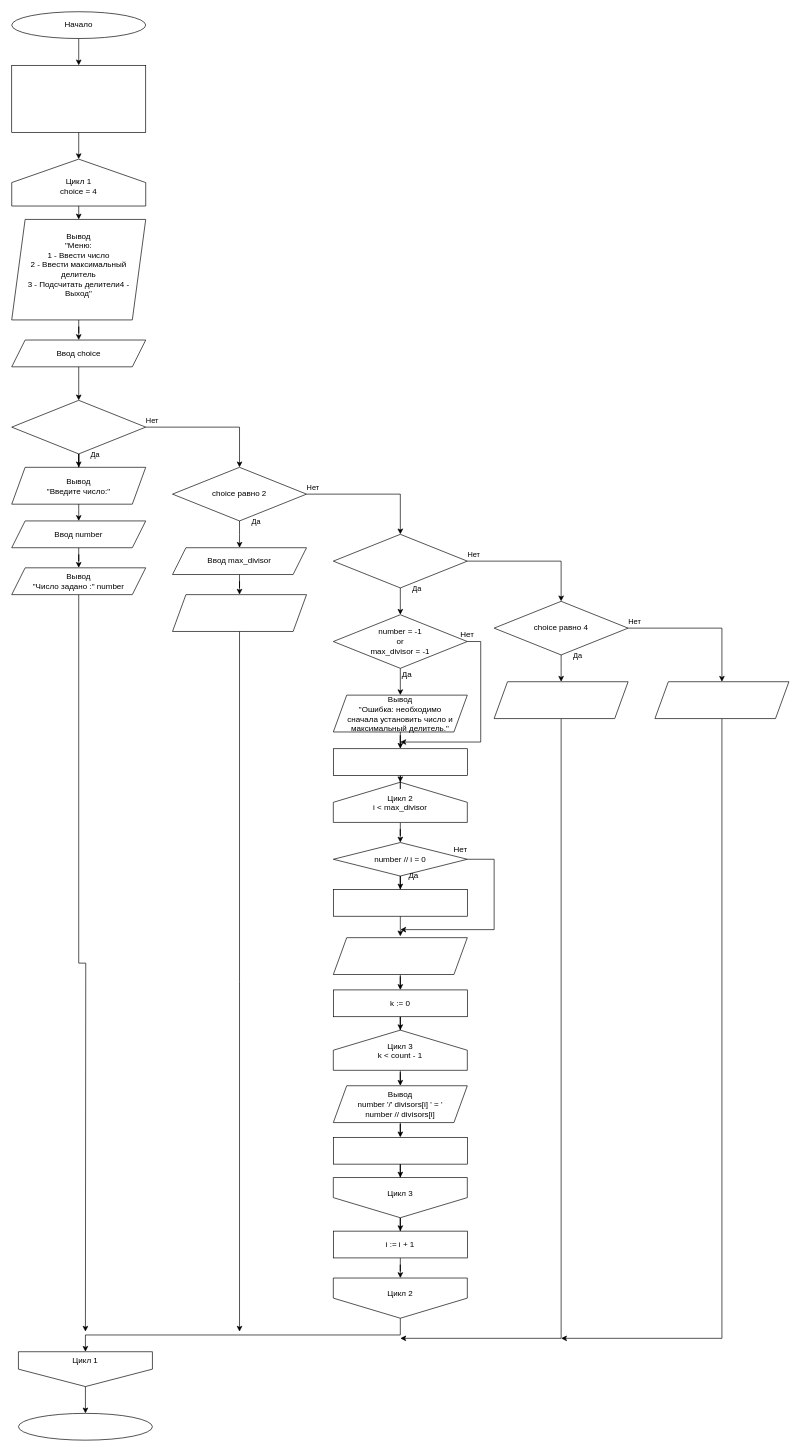
This 801x1452 diagram has some shape labels left out. The box of each missing label's shape, as (x1, y1, x2, y2) in pixels:
choice = 1: (11, 400, 146, 454)
choice равно 3: (333, 534, 467, 588)
count := count + 1 divisors[count - 1] := i: (333, 889, 467, 916)
i := 1 count := 0: (333, 748, 467, 776)
k := k + 1: (333, 1137, 467, 1164)
number := -1 max_divisor := -1 choice := 0 i := 0 count := 0: (11, 65, 146, 132)
Вывод "Выход из программы": (493, 681, 628, 719)
Вывод "Максимальный делитель задан:" max_divisor: (172, 594, 307, 631)
Вывод "Ошибка: выберите корректный пункт меню": (654, 681, 789, 719)
Вывод 'Количество делителей: ' count 'Список делителей: ': (333, 937, 467, 975)
Конец: (18, 1413, 152, 1440)
